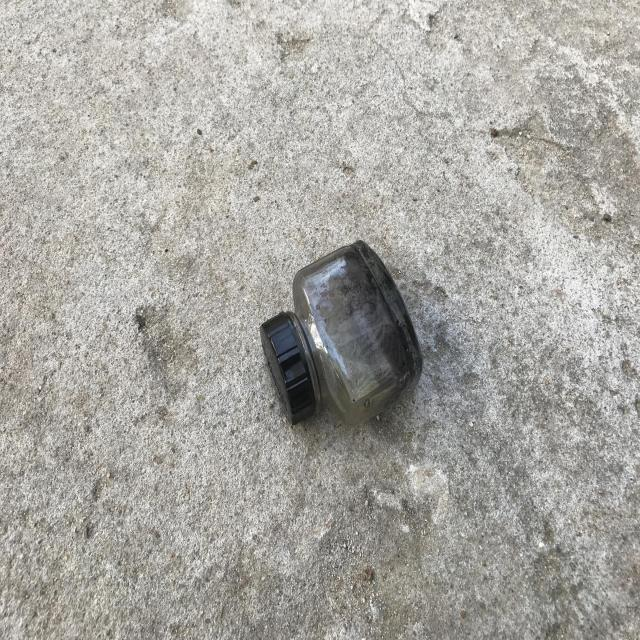glass: (261, 241, 423, 425)
